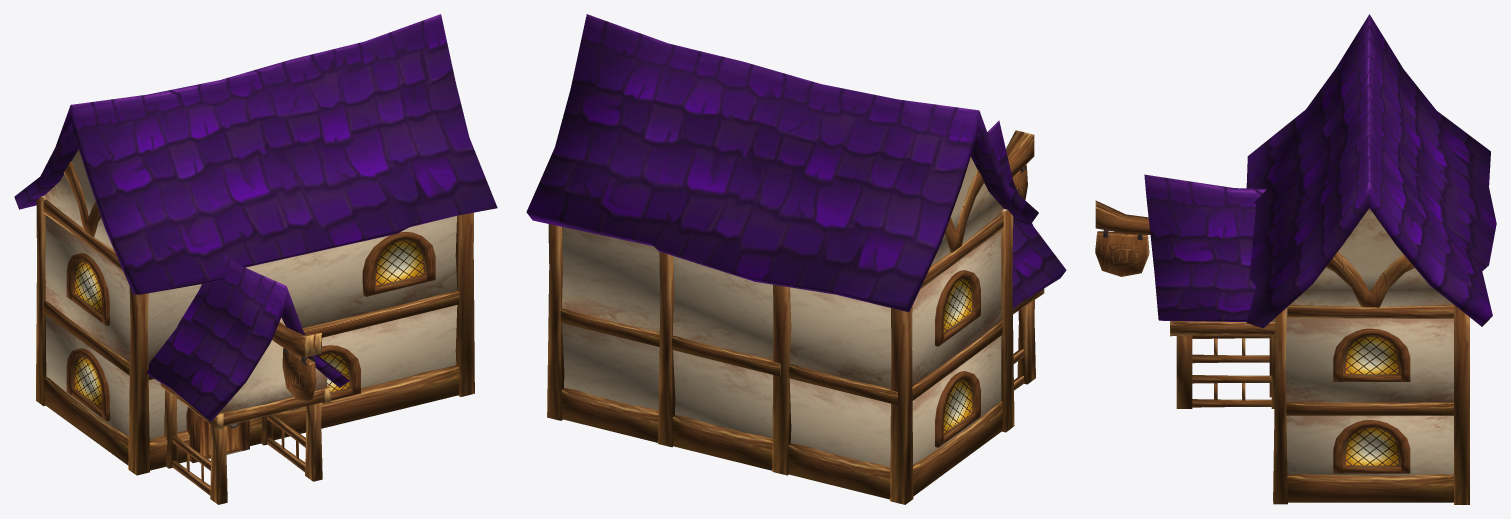
The model's file is building_5_4.FBX.
The picture shows the model from 3 angles, left to right: view 1: azimuth 30°, elevation 25°; view 2: azimuth 150°, elevation 25°; view 3: azimuth 270°, elevation 25°; orthographic projection. The views are drawn at different scales.
Parts seen in each view (by area): view 1: building_5_4; view 2: building_5_4; view 3: building_5_4.
Boxes of the visible parts, left/top/right/bottom form: building_5_4: left=14, top=14, right=497, bottom=504; building_5_4: left=526, top=14, right=1066, bottom=504; building_5_4: left=1095, top=14, right=1496, bottom=504.
Size of the model in its own units: 453 by 396 by 443.
